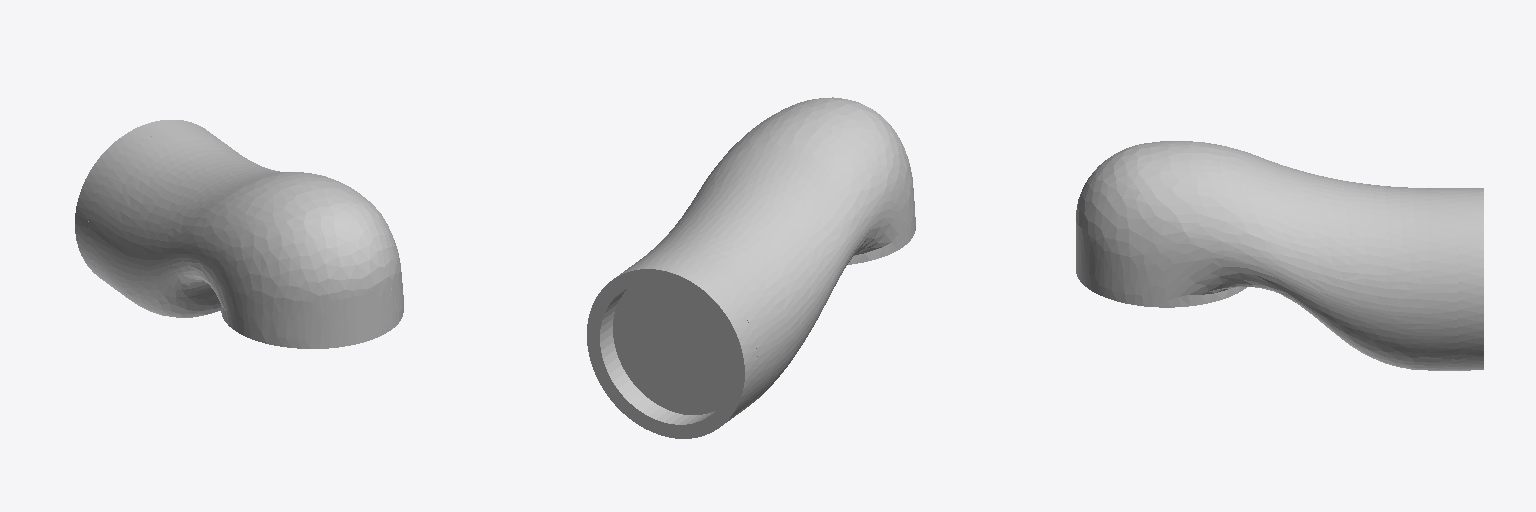
File: kuka-link4.obj
3 renders of one model, left to right at view 1: azimuth 30°, elevation 25°; view 2: azimuth 150°, elevation 25°; view 3: azimuth 270°, elevation 25°, orthographic.
Visible parts, largest first — view 1: object; view 2: object; view 3: object.
Boxes of the visible parts, <box> form: object: <box>75,120,403,348</box>; object: <box>587,97,915,438</box>; object: <box>1076,141,1483,370</box>.
Bounding box in the file's own units: 120 × 154 × 269.